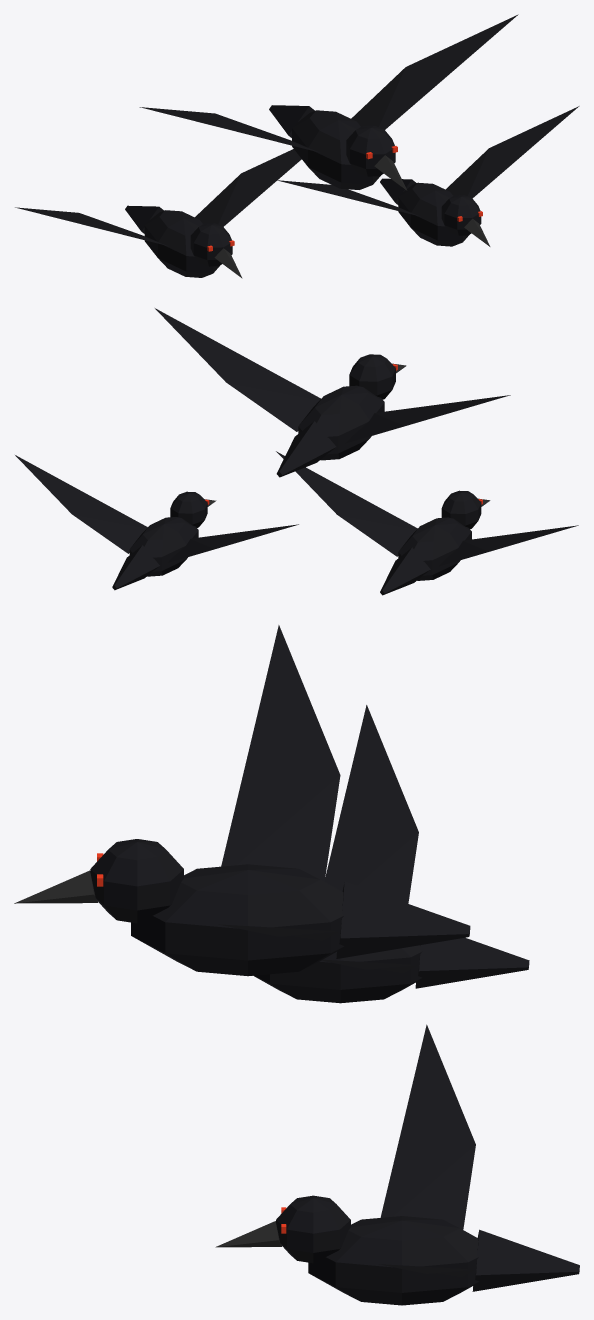
Rendered from wodansrabe.glb.
The picture shows the model from 3 angles, top to bottom: view 1: azimuth 30°, elevation 25°; view 2: azimuth 150°, elevation 25°; view 3: azimuth 270°, elevation 25°; orthographic projection. The views are drawn at different scales.
Bounding box in the file's own units: 1.84 × 0.722 × 0.9187.
1 material, 1 textured.
